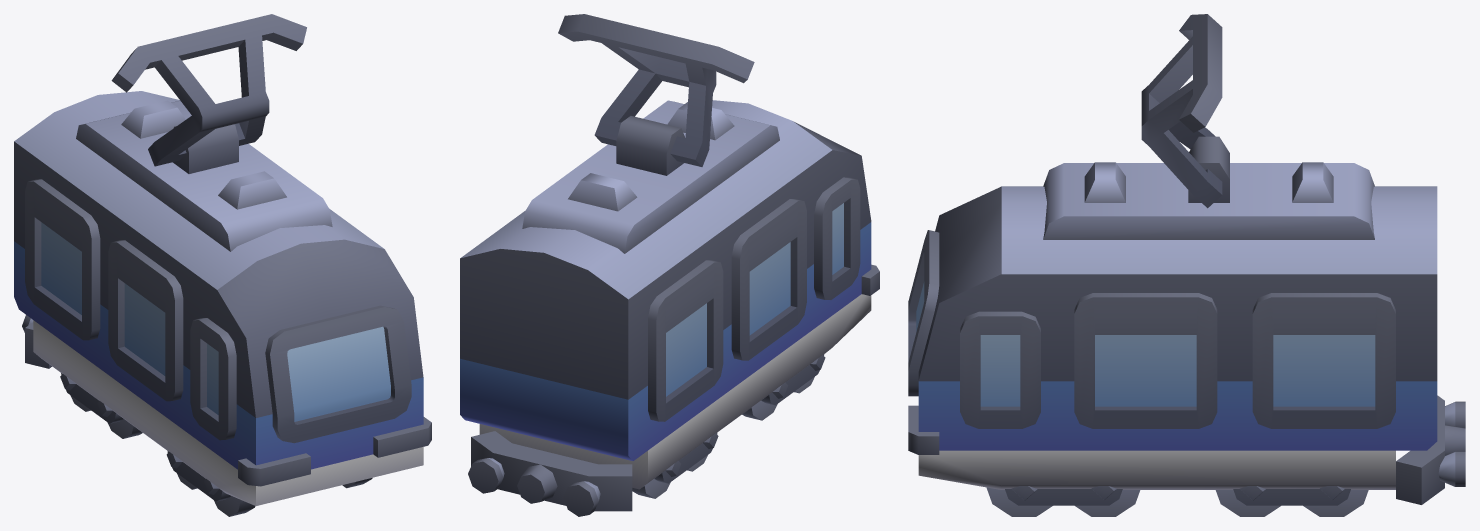
Rendered from train-tram-modern.glb.
The picture shows the model from 3 angles, left to right: view 1: azimuth 30°, elevation 25°; view 2: azimuth 150°, elevation 25°; view 3: azimuth 270°, elevation 25°; orthographic projection. The views are drawn at different scales.
Visible parts, largest first — view 1: train-tram-modern, collector, wheels-front, wheels-back; view 2: train-tram-modern, collector, wheels-back, wheels-front; view 3: train-tram-modern, collector, wheels-front, wheels-back.
Part boxes in pixels (bbox=[...]): train-tram-modern: bbox=[14, 91, 431, 505]; collector: bbox=[111, 14, 306, 166]; wheels-front: bbox=[166, 451, 372, 516]; wheels-back: bbox=[60, 373, 142, 438]; train-tram-modern: bbox=[460, 100, 879, 516]; collector: bbox=[558, 14, 754, 166]; wheels-back: bbox=[632, 433, 718, 498]; wheels-front: bbox=[742, 354, 825, 420]; train-tram-modern: bbox=[908, 136, 1465, 504]; collector: bbox=[1141, 14, 1222, 208]; wheels-front: bbox=[986, 486, 1140, 516]; wheels-back: bbox=[1215, 486, 1368, 516].
Bounding box in the file's own units: 1.13 × 2.3 × 2.69.
